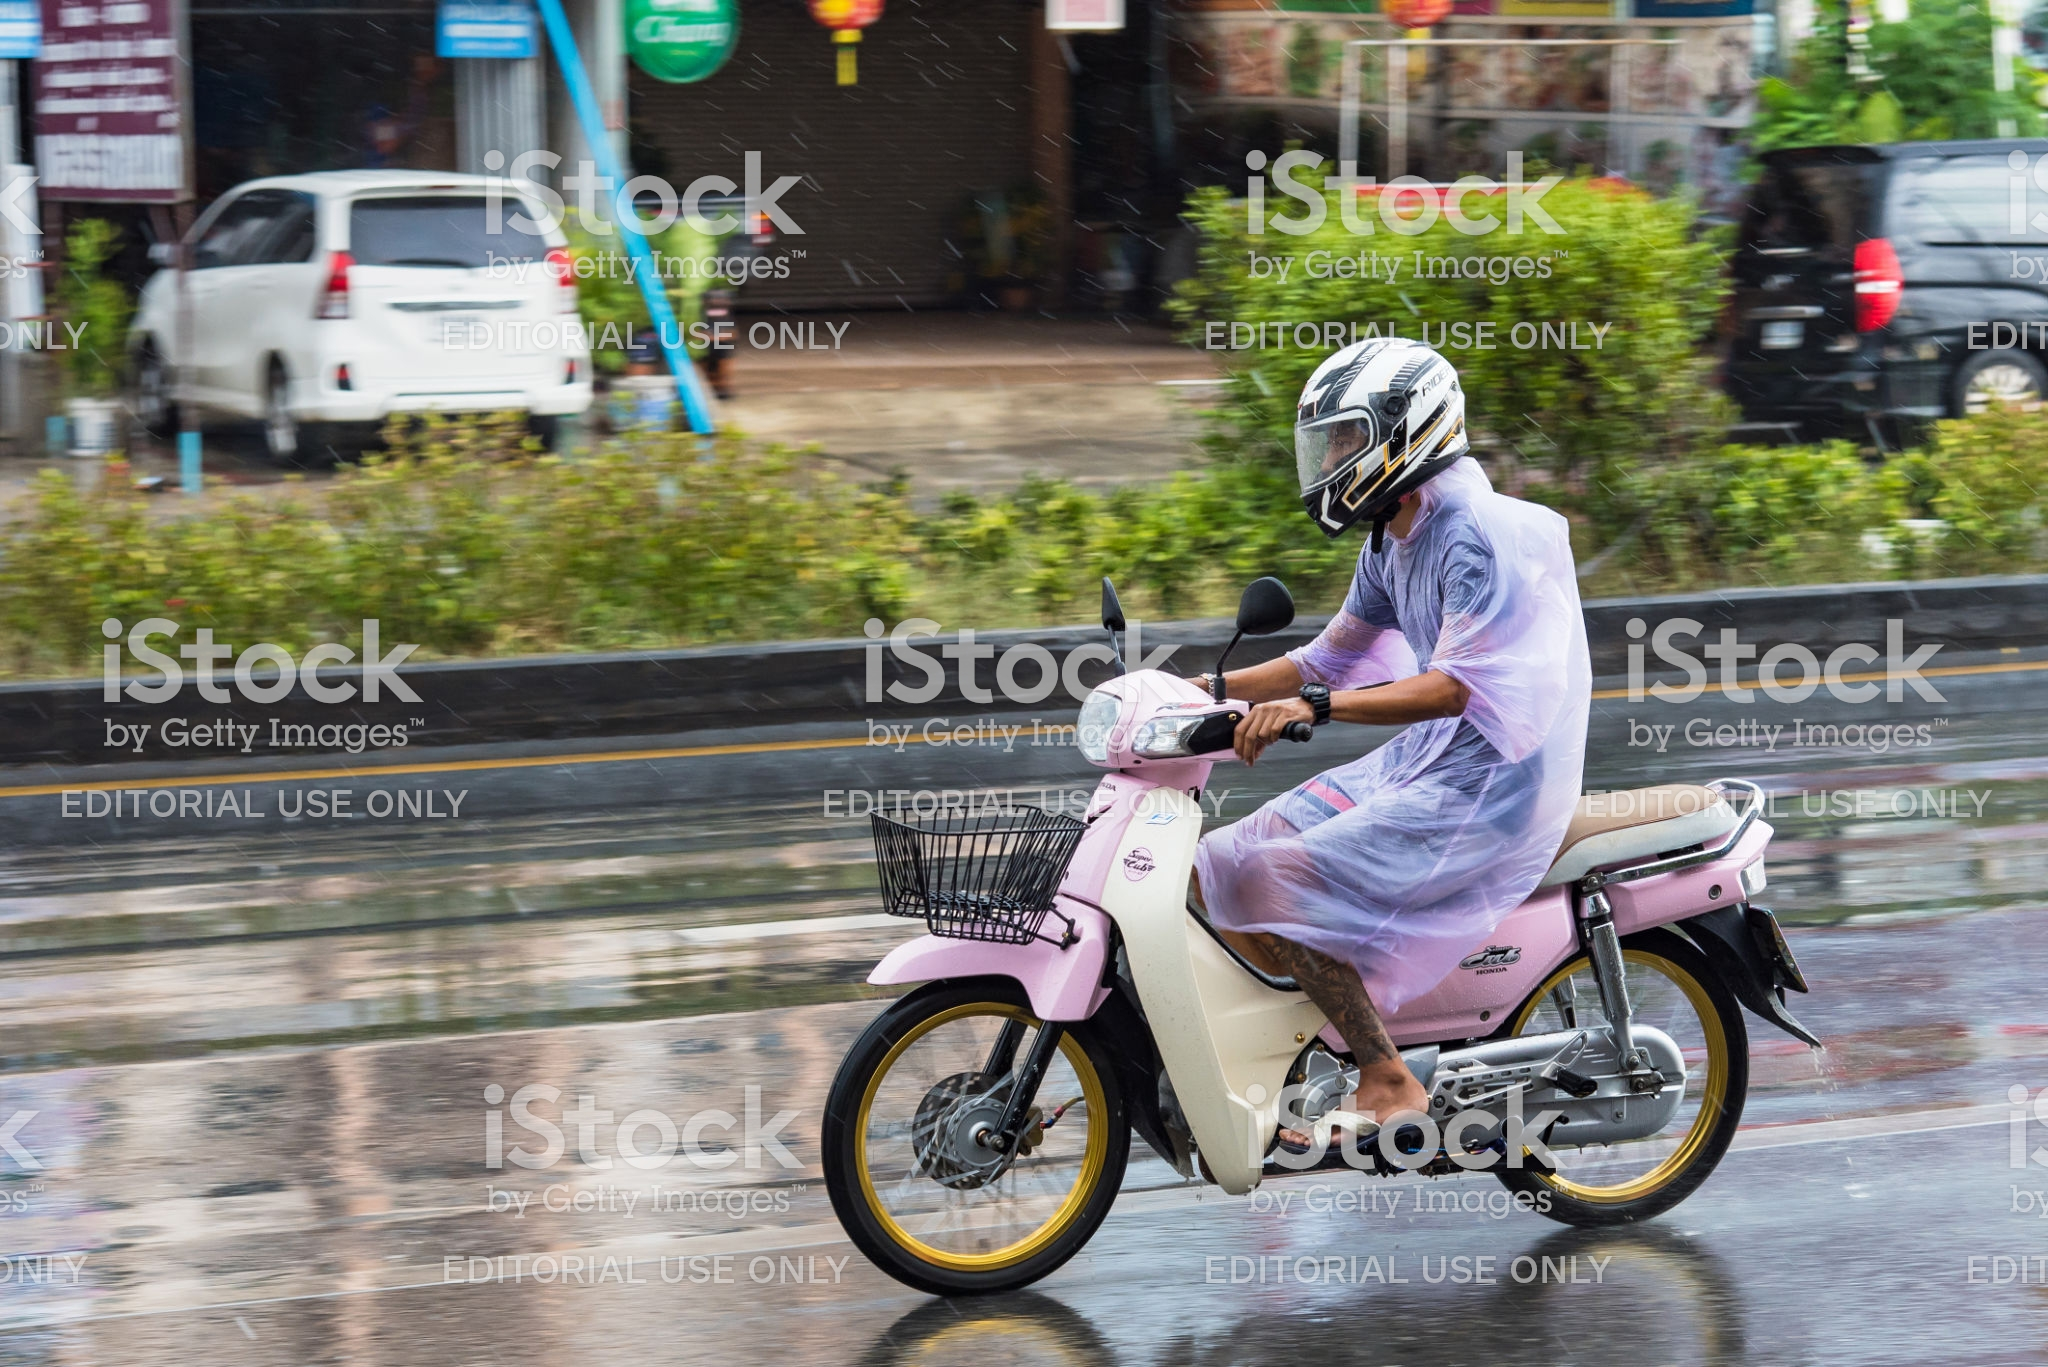helmet: (1289, 337, 1484, 491)
